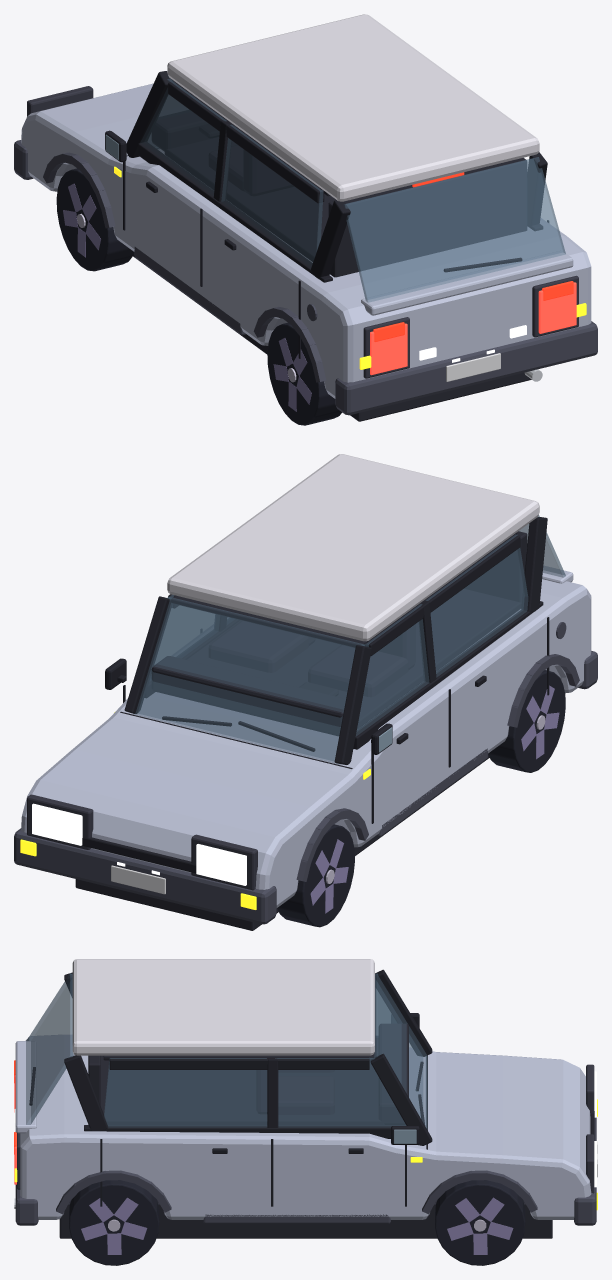
The model's file is car_A.glb.
3 views of the same model, one above another, from view 1: azimuth 30°, elevation 25°; view 2: azimuth 150°, elevation 25°; view 3: azimuth 270°, elevation 25° (orthographic). The views are drawn at different scales.
Parts seen in each view (by area): view 1: carA_bodyLower, carA_roof, carA_rearGlass, carA_rearBulk, carA_bumperRear, carA_sideGlassRL, carA_cabinFloor, carA_sideGlassFL, carA_tailgateLip, carA_tyreFL, carA_tyreRL, carA_archLips (+20 smaller); view 2: carA_bodyLower, carA_roof, carA_windshield, carA_cabinFloor, carA_bumperFront, carA_dashboard, carA_sideGlassRL, carA_sideGlassFL, carA_tyreFL, carA_tyreRL, carA_seatBaseR, carA_seatBaseL (+22 smaller); view 3: carA_bodyLower, carA_roof, carA_cabinFloor, carA_sideGlassRR, carA_sideGlassFR, carA_underbody, carA_tyreFR, carA_tyreRR, carA_rearGlass, carA_windshield, carA_winTopR, carA_archLips (+19 smaller).
Part boxes in pixels (left/top/right/bottom): carA_bodyLower: left=21, top=83, right=591, bottom=398; carA_roof: left=167, top=14, right=539, bottom=201; carA_rearGlass: left=343, top=157, right=565, bottom=302; carA_rearBulk: left=328, top=157, right=526, bottom=277; carA_bumperRear: left=335, top=321, right=597, bottom=415; carA_sideGlassRL: left=221, top=125, right=323, bottom=267; carA_cabinFloor: left=165, top=137, right=335, bottom=273; carA_sideGlassFL: left=140, top=79, right=226, bottom=195; carA_tailgateLip: left=361, top=251, right=573, bottom=315; carA_tyreFL: left=56, top=168, right=134, bottom=271; carA_tyreRL: left=267, top=322, right=341, bottom=425; carA_archLips: left=43, top=152, right=326, bottom=382; carA_bodyLower: left=21, top=579, right=591, bottom=907; carA_roof: left=167, top=454, right=539, bottom=641; carA_windshield: left=133, top=596, right=363, bottom=764; carA_cabinFloor: left=187, top=589, right=521, bottom=728; carA_bumperFront: left=14, top=828, right=276, bottom=924; carA_dashboard: left=151, top=656, right=358, bottom=735; carA_sideGlassRL: left=426, top=534, right=528, bottom=677; carA_sideGlassFL: left=356, top=604, right=429, bottom=735; carA_tyreFL: left=277, top=824, right=354, bottom=927; carA_tyreRL: left=488, top=670, right=565, bottom=772; carA_seatBaseR: left=209, top=620, right=308, bottom=672; carA_seatBaseL: left=308, top=645, right=408, bottom=696; carA_bodyLower: left=20, top=1035, right=591, bottom=1219; carA_roof: left=72, top=959, right=374, bottom=1055; carA_cabinFloor: left=100, top=1055, right=384, bottom=1124; carA_sideGlassRR: left=104, top=1058, right=267, bottom=1127; carA_sideGlassFR: left=275, top=1057, right=406, bottom=1127; carA_underbody: left=59, top=1200, right=552, bottom=1238; carA_tyreFR: left=435, top=1180, right=525, bottom=1265; carA_tyreRR: left=69, top=1180, right=159, bottom=1265; carA_rearGlass: left=26, top=973, right=73, bottom=1124; carA_windshield: left=374, top=973, right=427, bottom=1129; carA_winTopR: left=109, top=1057, right=369, bottom=1069; carA_archLips: left=56, top=1170, right=537, bottom=1214.
Size of the model in its own units: 1.82 by 1.56 by 3.86.
